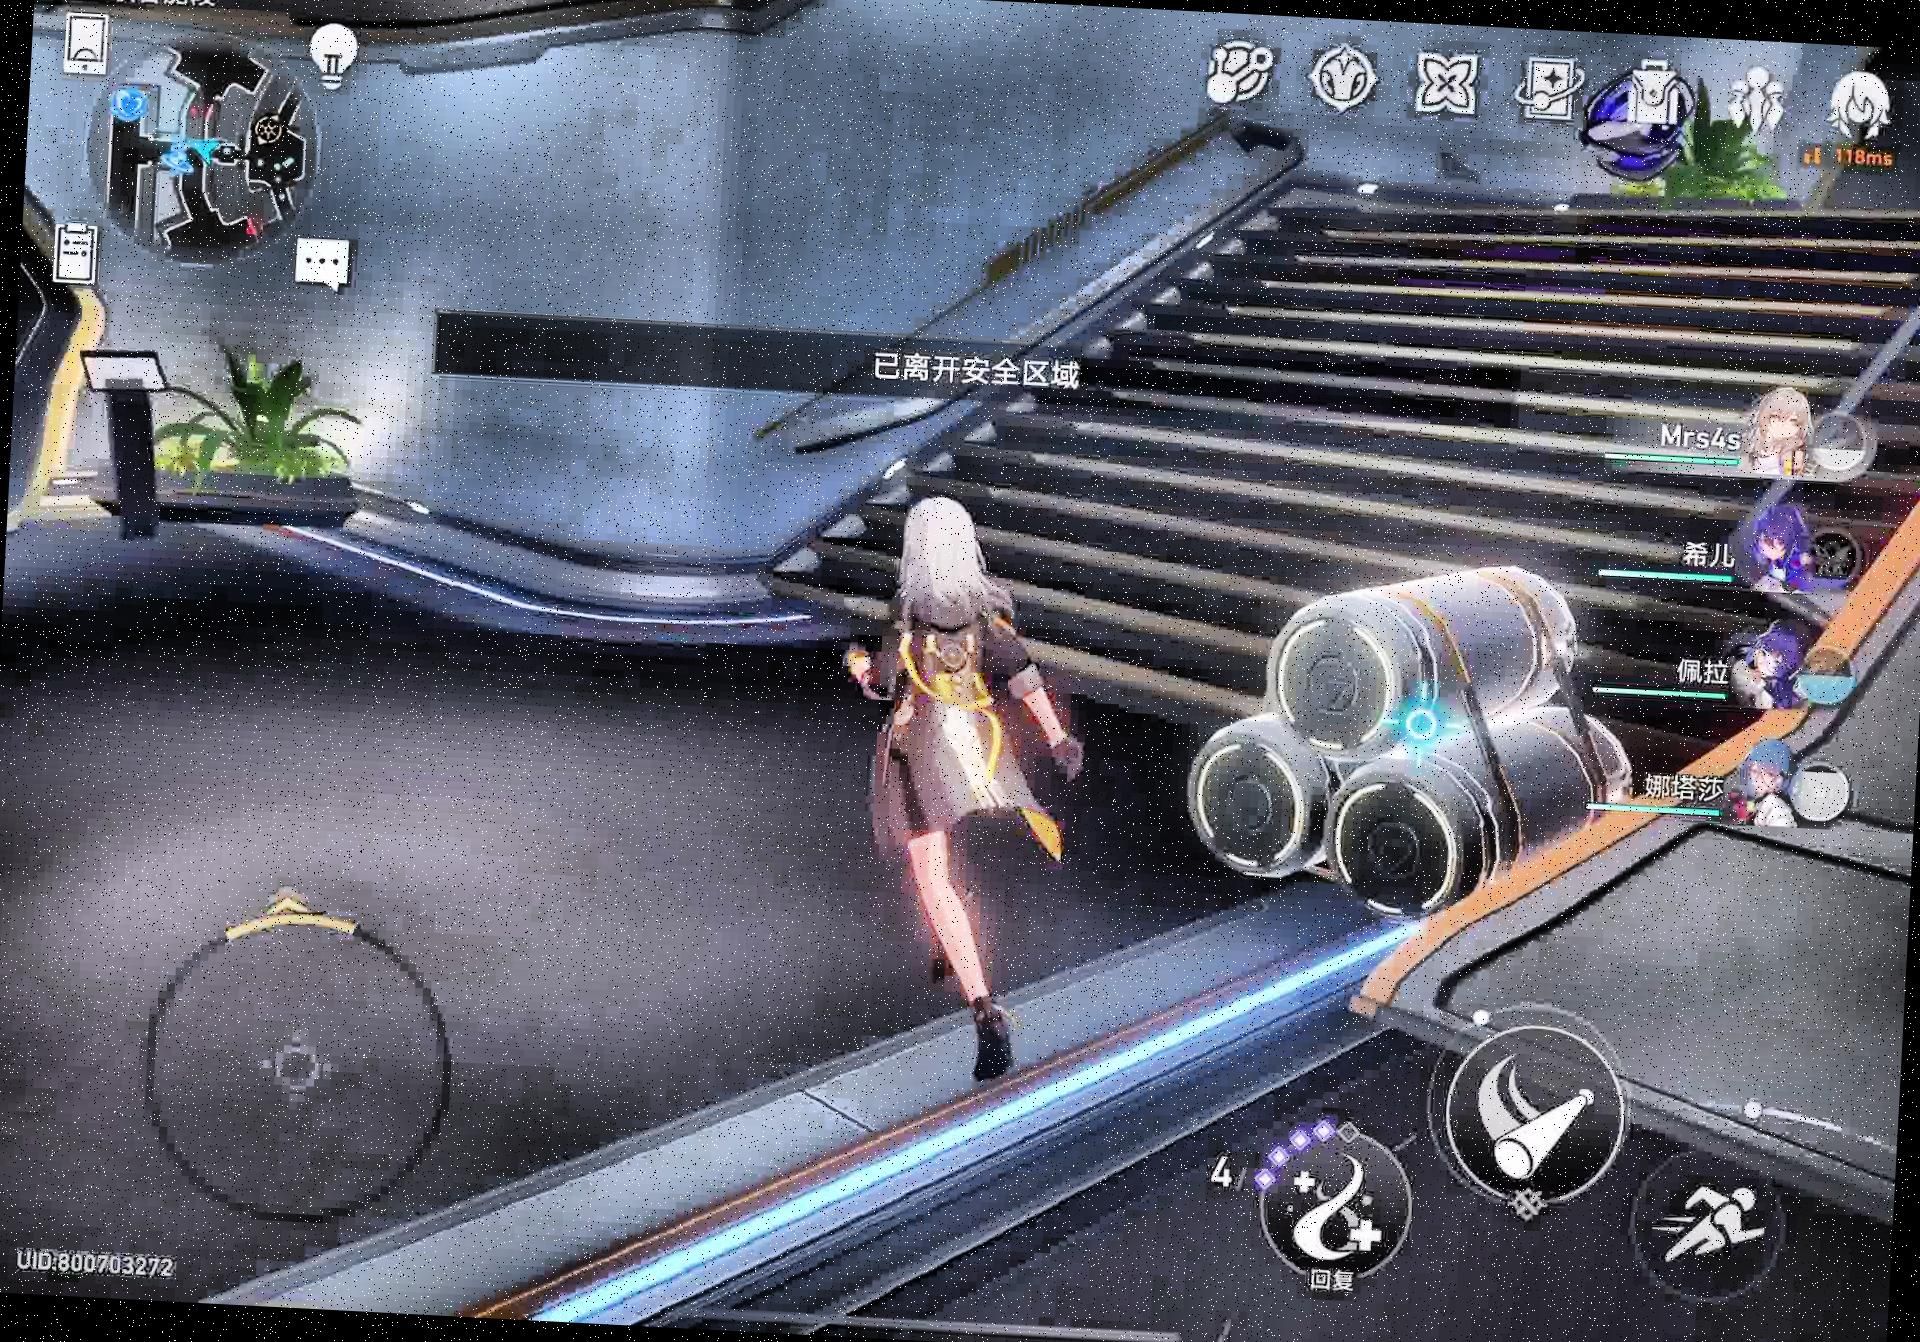Box: (1174, 538, 1643, 934)
Enemy: (1573, 66, 1701, 190)
Self: (813, 493, 1096, 1095)
